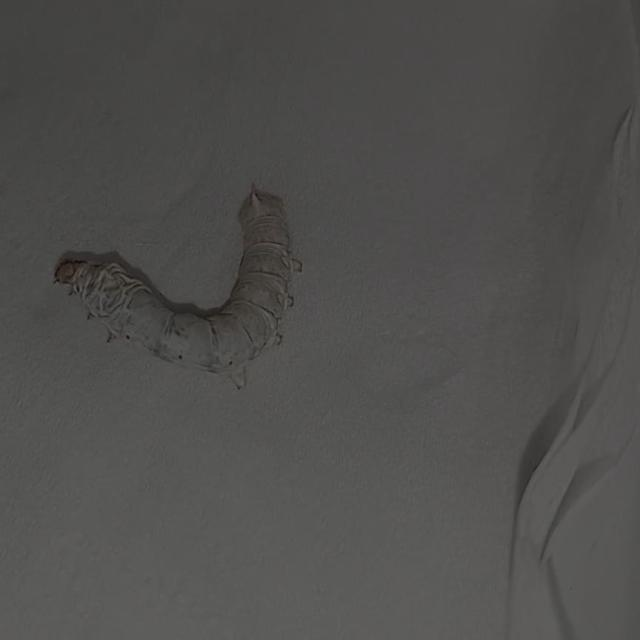Healthy: (46, 178, 311, 392)
